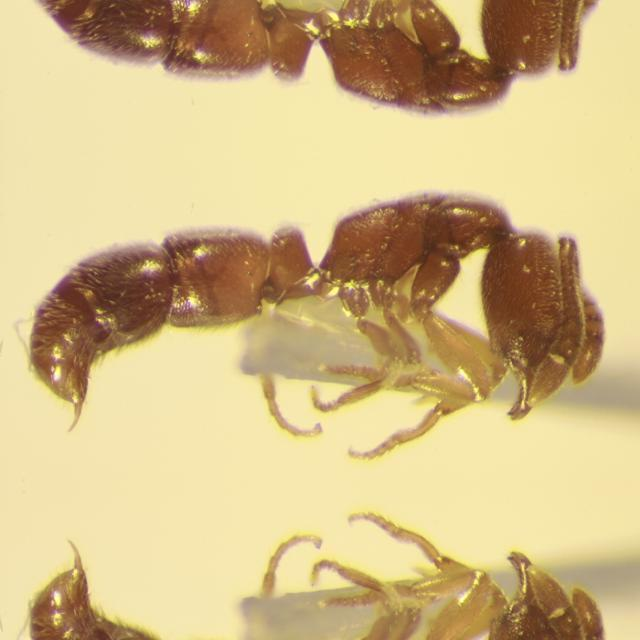Ponera: (8, 160, 596, 450), (6, 0, 595, 146), (7, 522, 596, 640)
